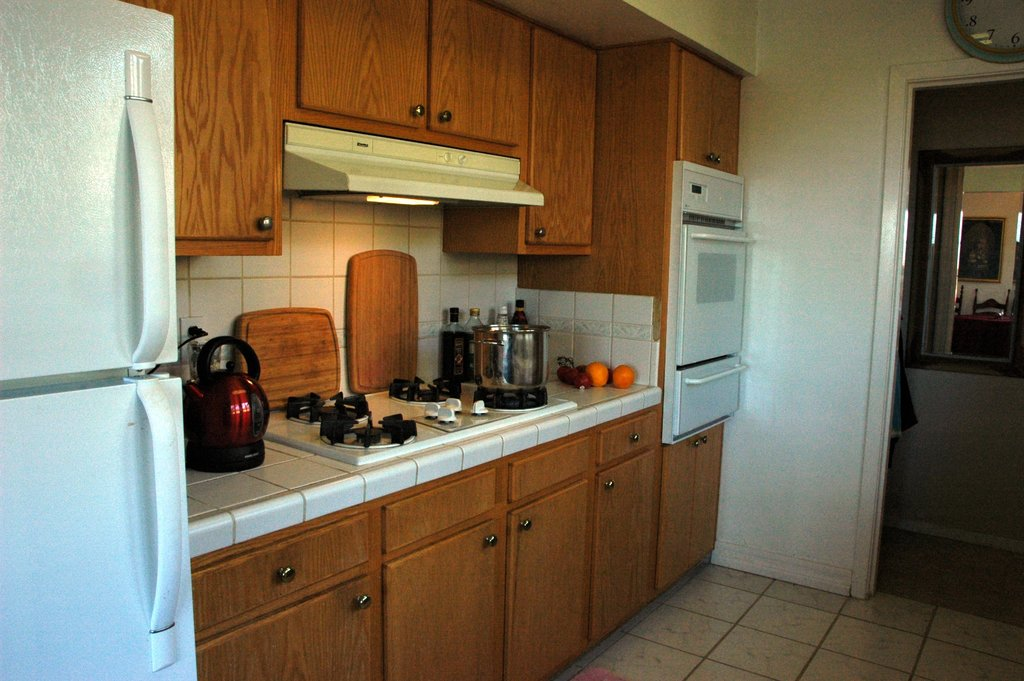cabinet door: (182, 10, 276, 243), (403, 527, 504, 681), (306, 4, 425, 134), (218, 598, 379, 681), (529, 44, 594, 245), (511, 500, 584, 669), (434, 14, 520, 150), (596, 461, 663, 604), (678, 58, 748, 166), (204, 547, 362, 594), (668, 444, 695, 567), (698, 437, 722, 553), (603, 413, 662, 459)
handle: (111, 106, 179, 361), (127, 381, 190, 634), (685, 358, 749, 387), (694, 223, 754, 249), (246, 202, 278, 242), (406, 94, 427, 124), (482, 527, 503, 556), (278, 563, 299, 589), (598, 472, 619, 497), (353, 593, 375, 616), (706, 148, 727, 172), (438, 104, 457, 129), (516, 512, 534, 537), (628, 428, 646, 446), (536, 223, 551, 244)
refrigerator door: (0, 10, 176, 351), (1, 399, 183, 681)
